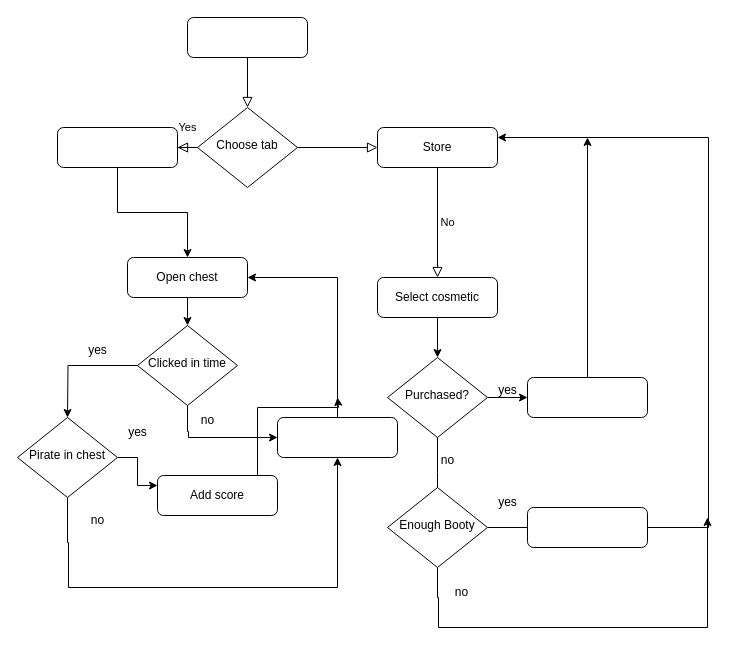
This 734x653 diagram has some shape labels left out. Here are the shapes that lost their labels. From the top down, the centre of each, then its label:
(247,37): Start
(117,147): Game
(587,397): Wear Cosmetic
(337,437): Subtract life
(587,527): Purchase
